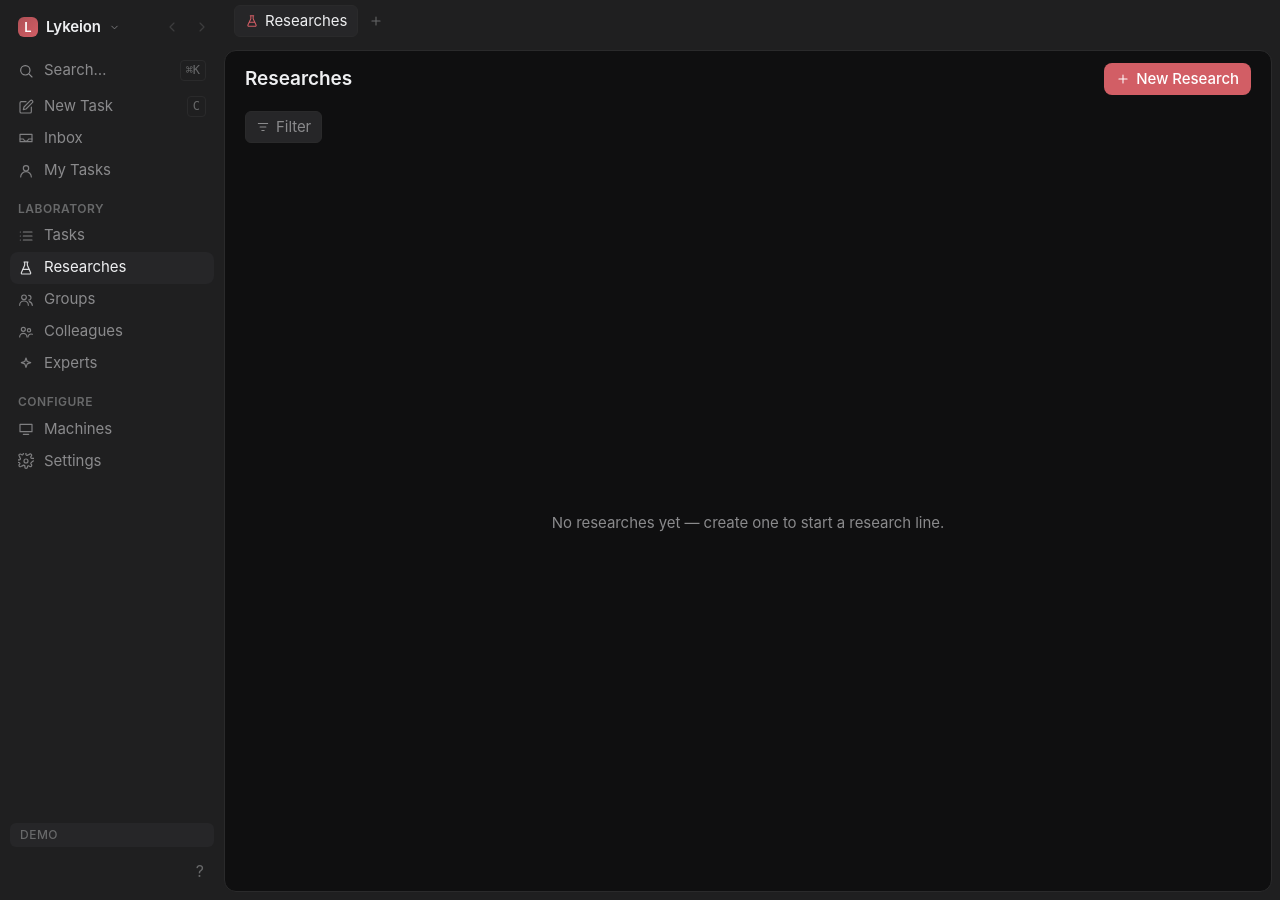
Test: shows the seeded owner identity on a fresh core
Click the button with aria-label "Workspace" at coordinates (69, 27), box [10, 10, 128, 44]
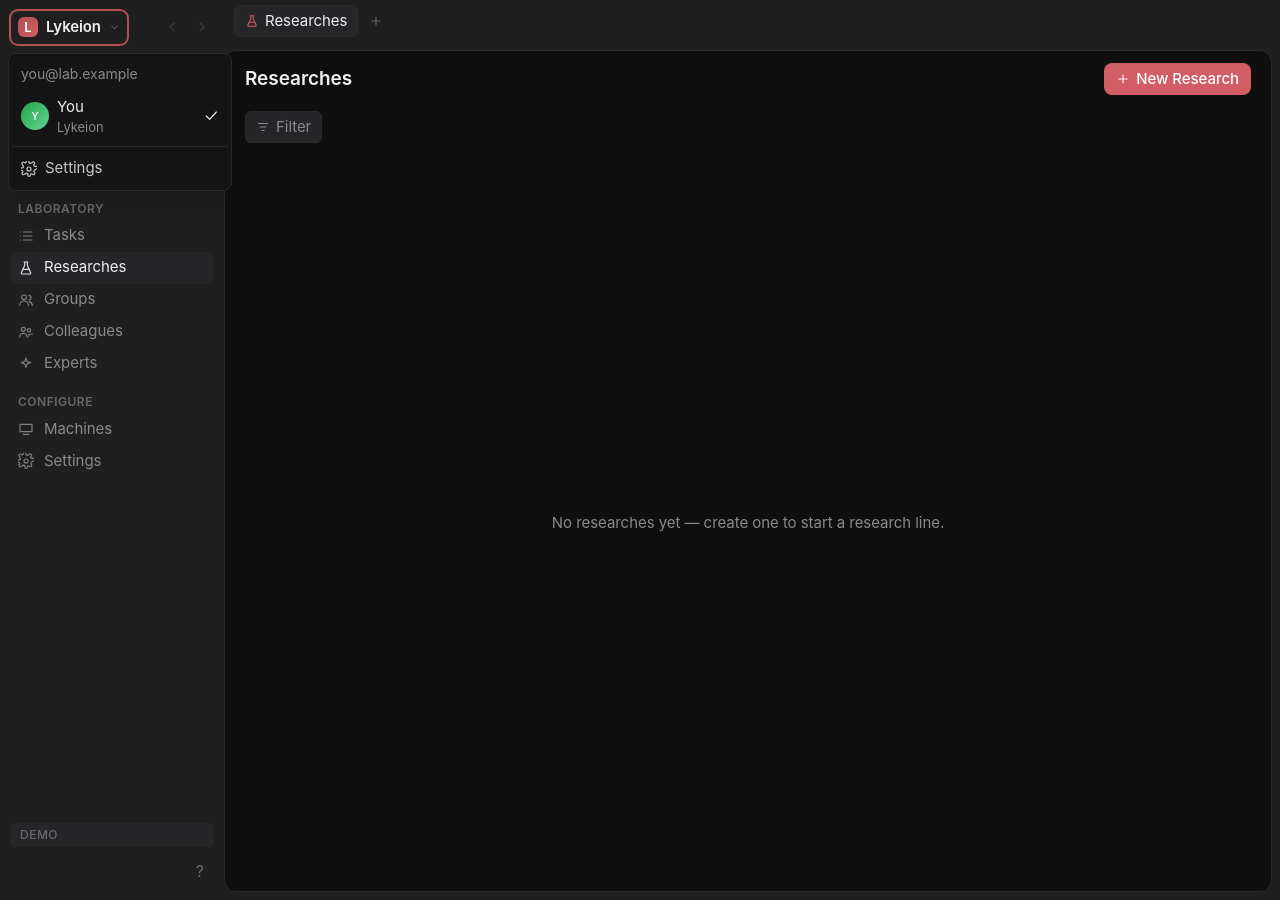
Expected: the text "You" is shown, [57, 97, 84, 116]
Expected: the text "you@lab.example" is shown, [21, 64, 138, 82]
